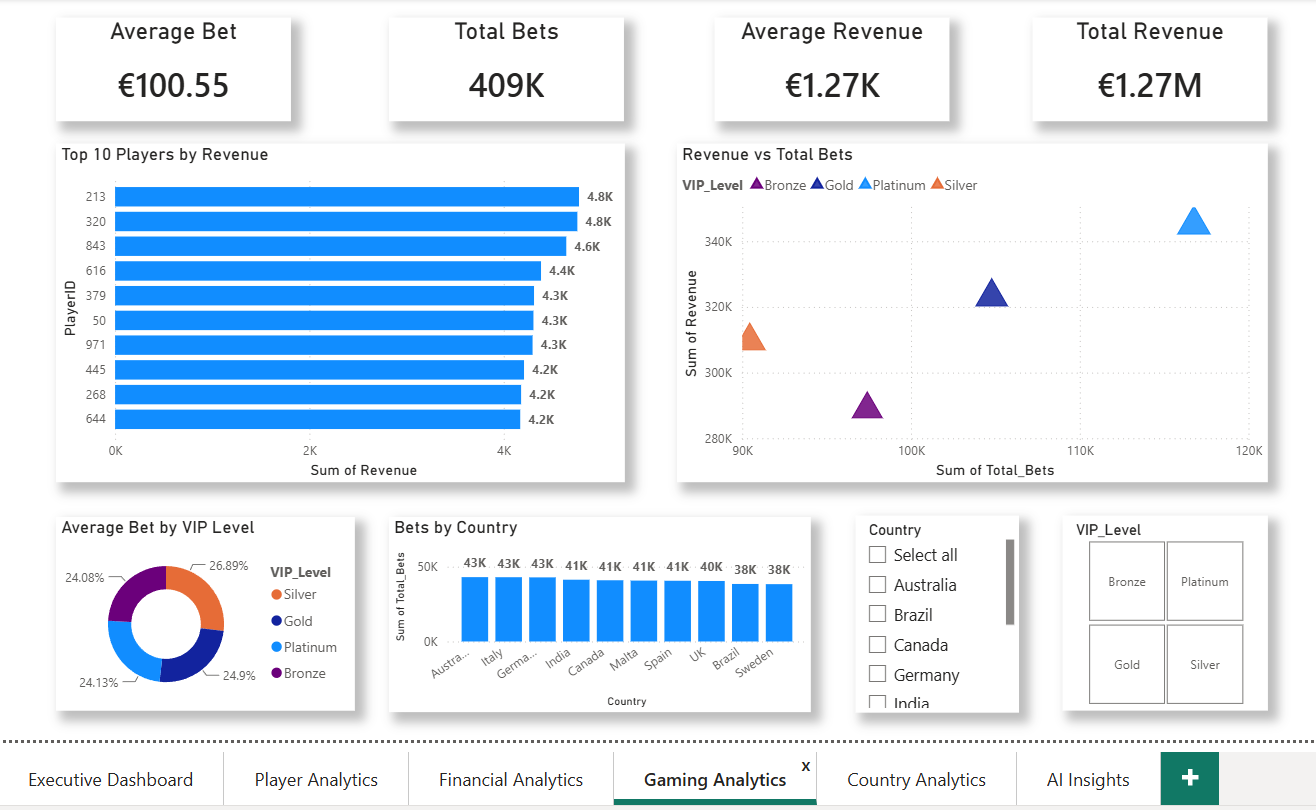

This screenshot's page, from the dashboard's own definition file:
{"tool":"powerbi","page":{"name":"Gaming Analytics","canvas":[1280,720],"ordinal":3},"visuals":[{"type":"cardVisual","title":"Average Bet","fields":{"Data":["kpi_summary.Average Bet"]},"box":[55.1,19.4,228.3,100.4],"z":0},{"type":"cardVisual","title":"Total Bets","fields":{"Data":["Sum(player_details.Total_Bets)"]},"box":[378.9,19.4,228.3,100.4],"z":1000},{"type":"cardVisual","title":"Average Revenue","fields":{"Data":["player_details.Average Revenue"]},"box":[694.6,19.4,228.3,100.4],"z":2000},{"type":"cardVisual","title":"Total Revenue","fields":{"Data":["player_details.Total Revenue"]},"box":[1002.3,19.4,228.3,100.4],"z":3000},{"type":"donutChart","title":"Average Bet by VIP Level","fields":{"Category":["player_details.VIP_Level"],"Y":["player_details.Average Bet Player"]},"box":[55.1,503.6,289.8,187.8],"z":4000},{"type":"scatterChart","title":"Revenue vs Total Bets","fields":{"X":["Sum(player_details.Total_Bets)"],"Y":["Sum(player_details.Revenue)"],"Series":["player_details.VIP_Level"],"Size":["Sum(player_details.Revenue)"]},"box":[657.4,140.9,573.2,328.7],"z":5000},{"type":"clusteredColumnChart","title":"Bets by Country","fields":{"Category":["player_details.Country"],"Y":["Sum(player_details.Total_Bets)"]},"box":[378.9,503.6,409.7,189.4],"z":6000},{"type":"clusteredBarChart","title":"Top 10 Players by Revenue","fields":{"Category":["player_details.PlayerID"],"Y":["Sum(player_details.Revenue)"]},"box":[55.1,140.9,552.2,328.7],"z":7000},{"type":"slicer","fields":{"Values":["player_details.Country"]},"box":[830.7,502,158.7,191.1],"z":8000},{"type":"slicer","fields":{"Values":["player_details.VIP_Level"]},"box":[1031.4,502,199.2,189.4],"z":9000}]}

Visuals, with their boxes on the page's 1280x720 design canvas (x1, y1, x2, y2). These are canvas units, not pixel positions in the 1316x810 screenshot, which may show the page scaled, cropped or inside an application window:
"Average Bet" cardVisual: [55,19,283,120]
"Total Bets" cardVisual: [379,19,607,120]
"Average Revenue" cardVisual: [695,19,923,120]
"Total Revenue" cardVisual: [1002,19,1231,120]
"Average Bet by VIP Level" donutChart: [55,504,345,691]
"Revenue vs Total Bets" scatterChart: [657,141,1231,470]
"Bets by Country" clusteredColumnChart: [379,504,789,693]
"Top 10 Players by Revenue" clusteredBarChart: [55,141,607,470]
slicer - player_details.Country: [831,502,989,693]
slicer - player_details.VIP_Level: [1031,502,1231,691]
